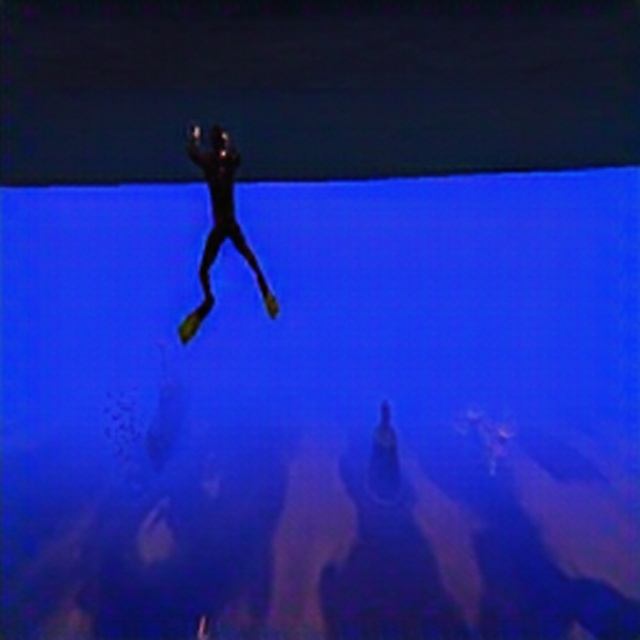diver: (185, 121, 279, 322)
